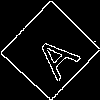A: (25, 25, 82, 82)
